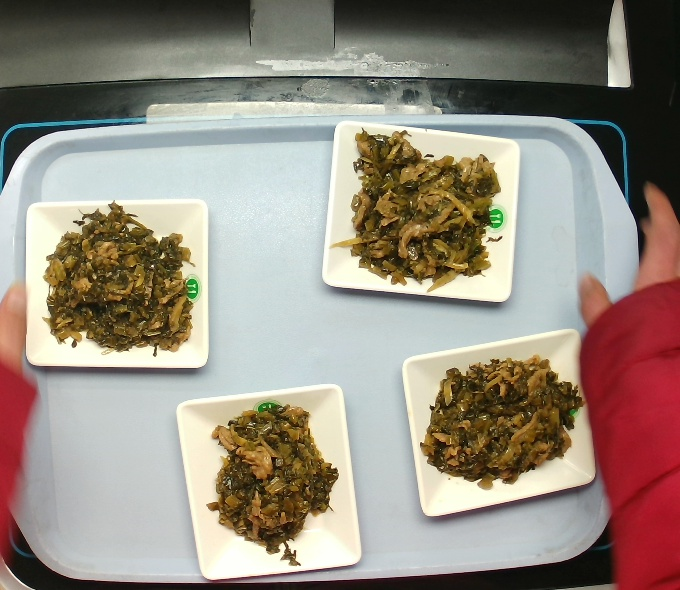wcq-XueCaiRouSi: (336, 122, 506, 295), (36, 199, 202, 357), (421, 341, 577, 497), (207, 408, 336, 555)
